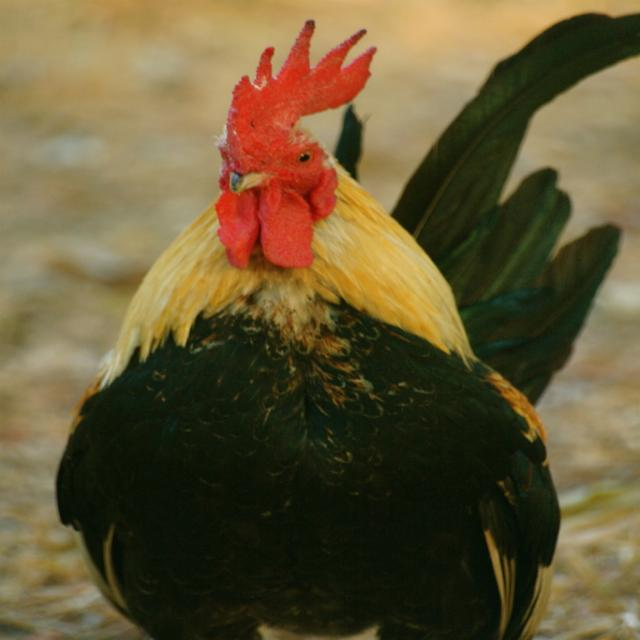Chicken: (41, 0, 640, 640)
